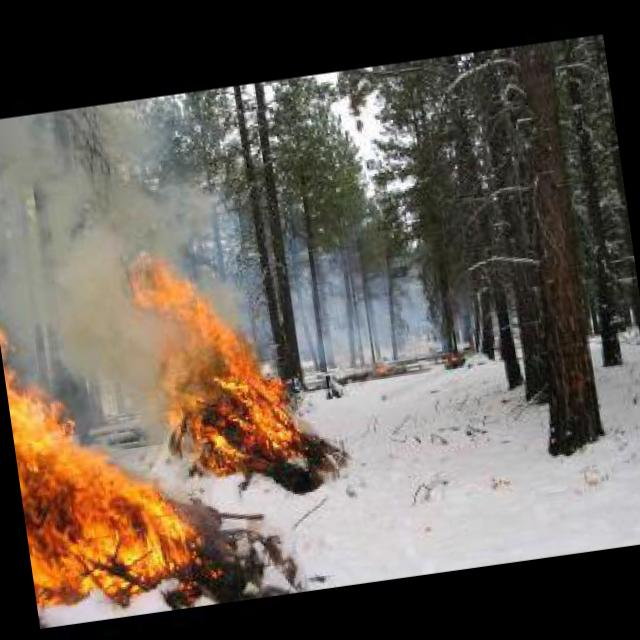fire: (0, 252, 303, 605)
